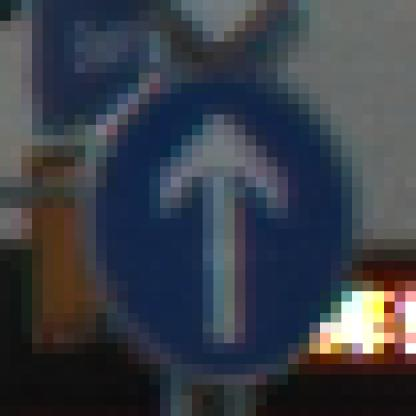AheadOnly: (65, 53, 353, 365)
